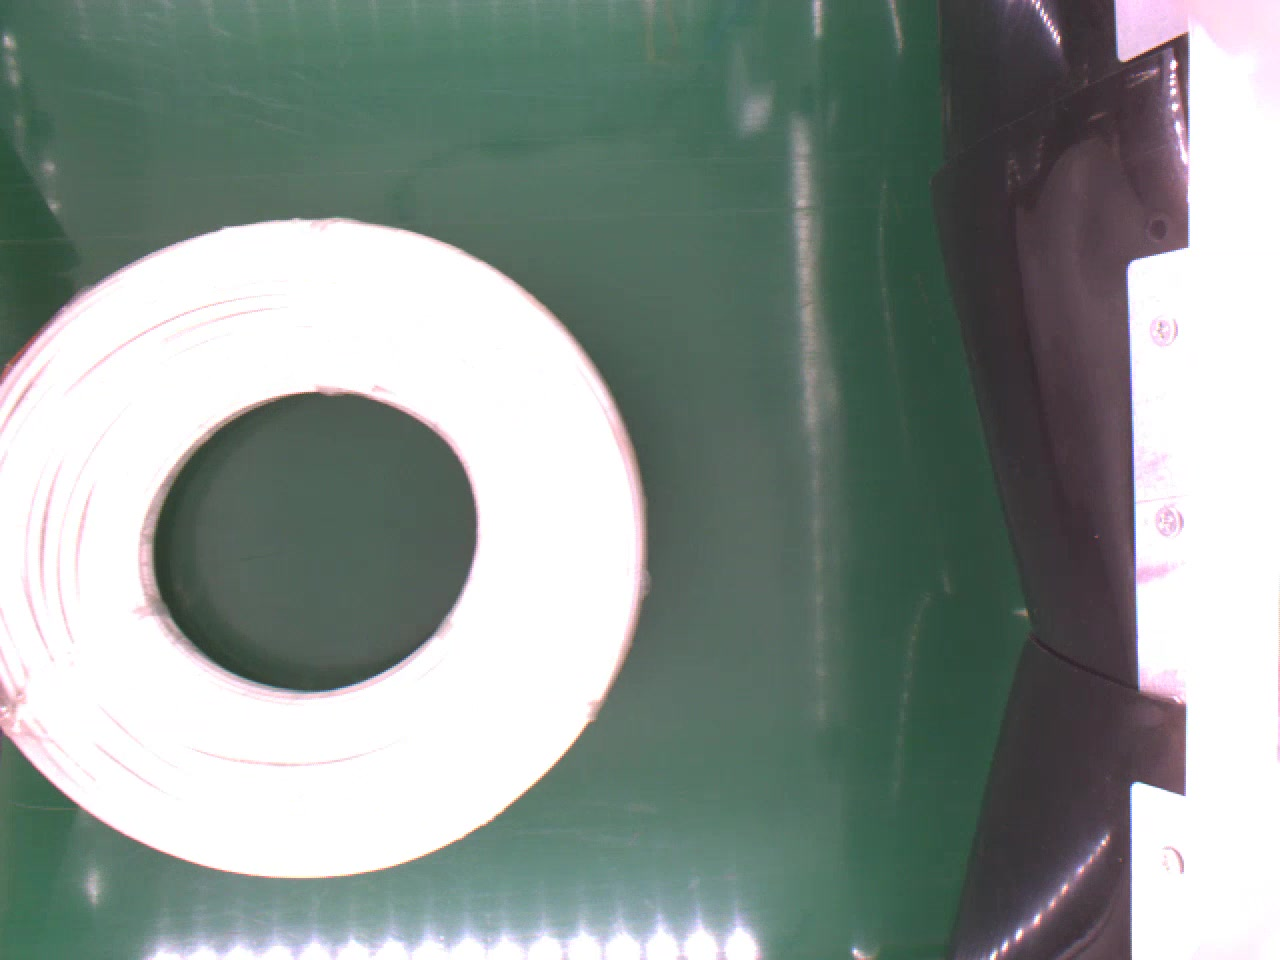white: (0, 209, 656, 886)
